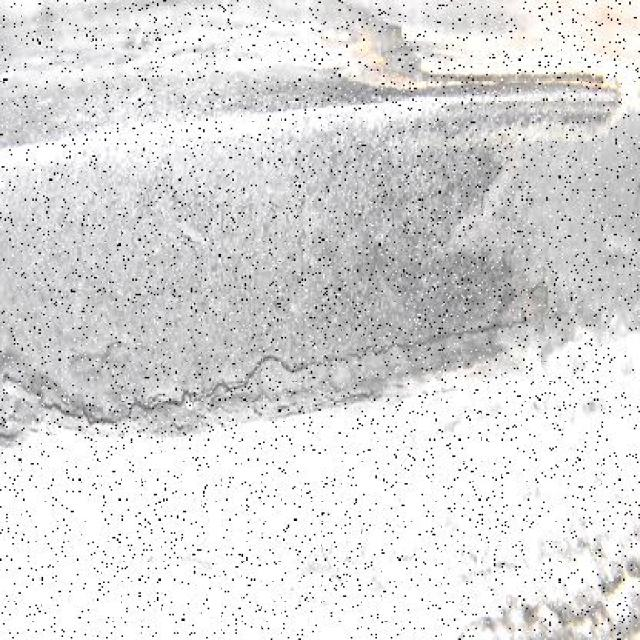Defect: (8, 345, 117, 440), (255, 326, 422, 374), (125, 376, 258, 421), (424, 310, 550, 352)
